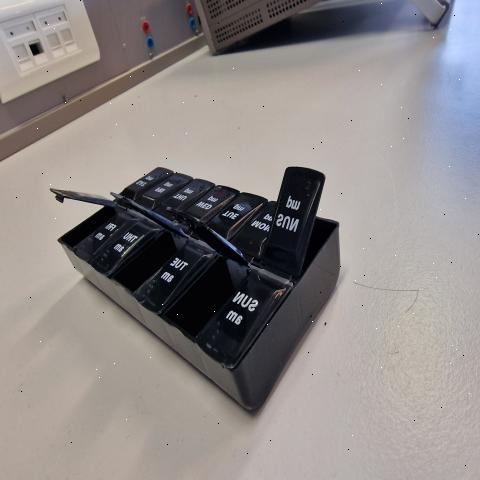Open: (160, 212, 248, 340), (106, 195, 187, 295), (51, 190, 118, 247), (300, 177, 337, 278)
